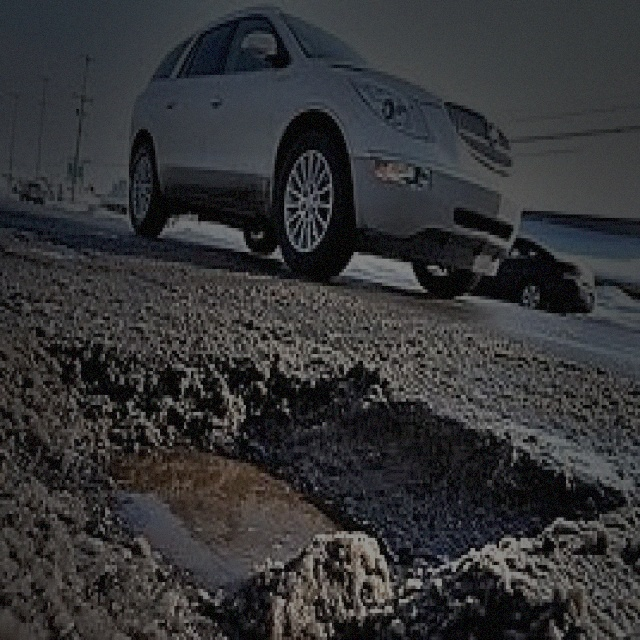pothole: (26, 306, 614, 586)
